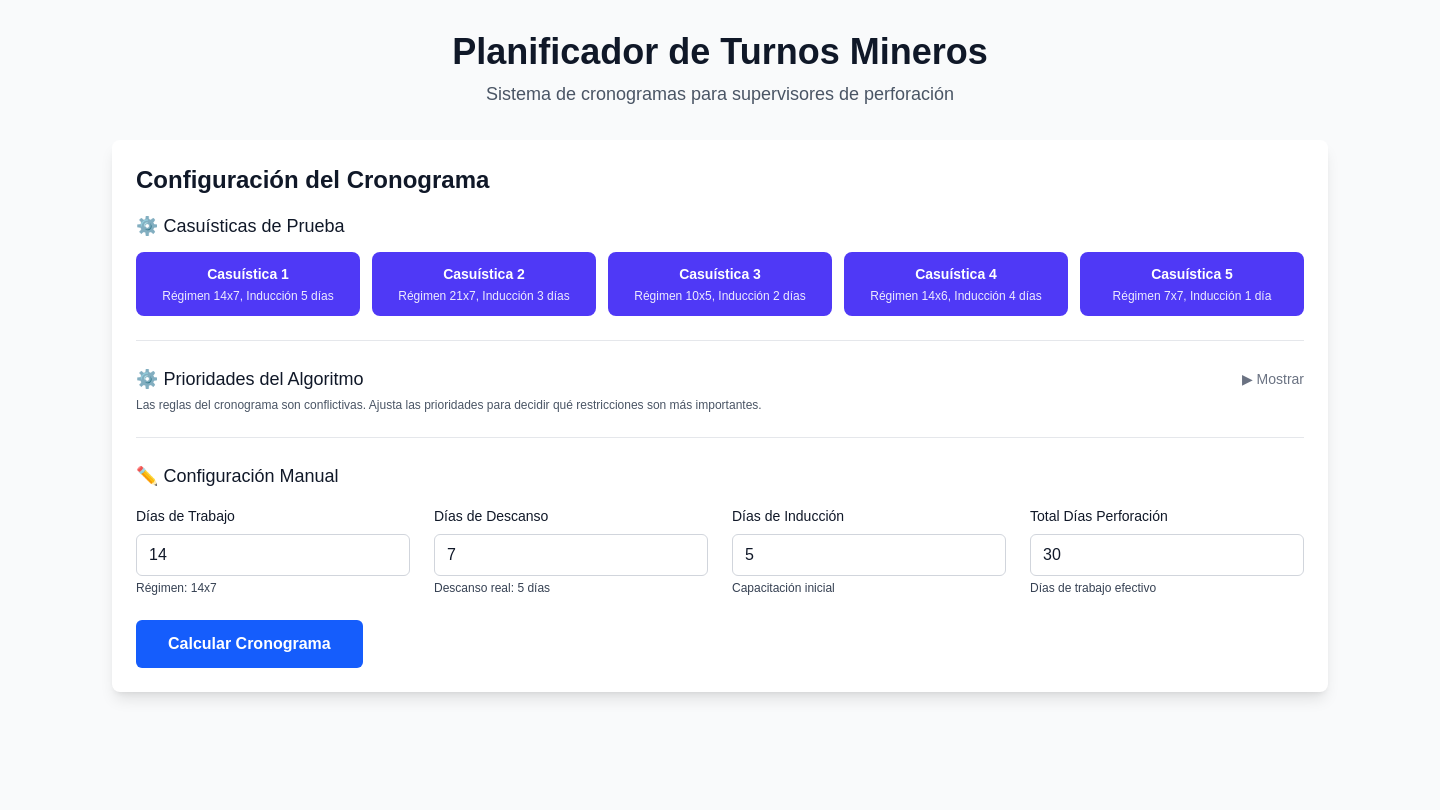
Test: SchedulePlanner Component › debe generar y mostrar cronograma al hacer clic en calcular
Step 1. Click the button "Calcular Cronograma" → (249, 644), box [136,620,363,668]
(page scrolled)
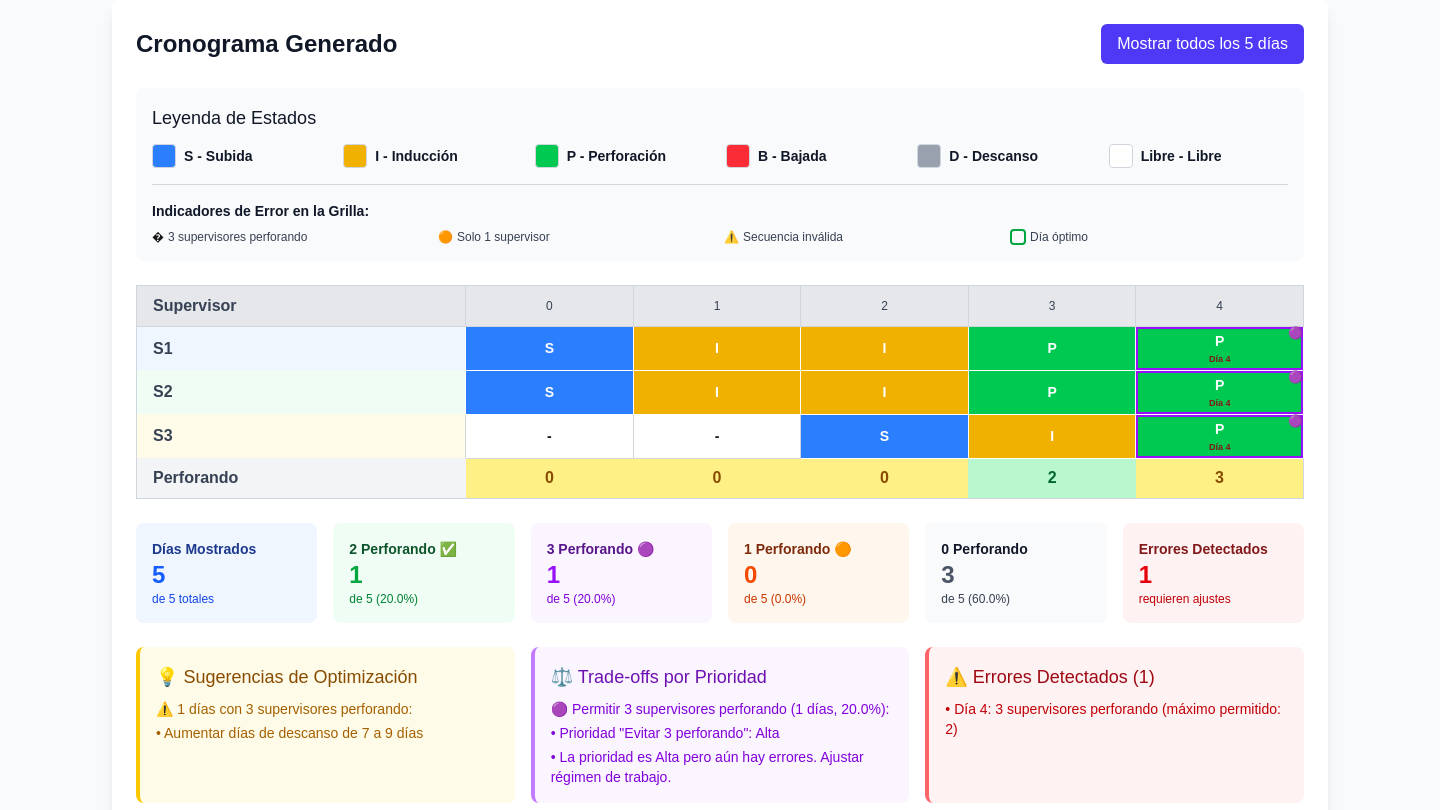
Expected: the heading "Cronograma Generado" is shown, [136,28,397,60]
